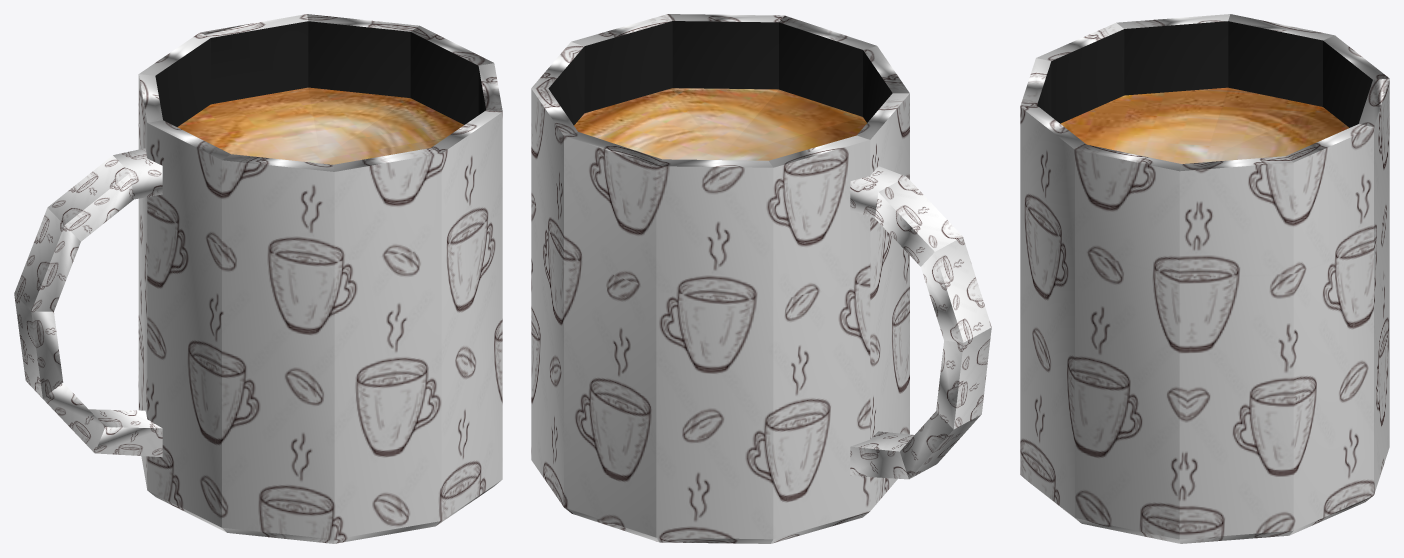
The model's file is KTB0110023.fbx.
3 views of the same model, side by side, from view 1: azimuth 30°, elevation 25°; view 2: azimuth 150°, elevation 25°; view 3: azimuth 270°, elevation 25° (orthographic).
Visible parts, largest first — view 1: smKTB0110023; view 2: smKTB0110023; view 3: smKTB0110023.
Part boxes in pixels (box(x1,y1,x2,y2)): smKTB0110023: box(14, 14, 502, 543); smKTB0110023: box(531, 14, 991, 543); smKTB0110023: box(1020, 14, 1389, 543).
Size of the model in its own units: 19.06 by 15.58 by 13.85.
1 material, 1 textured.
